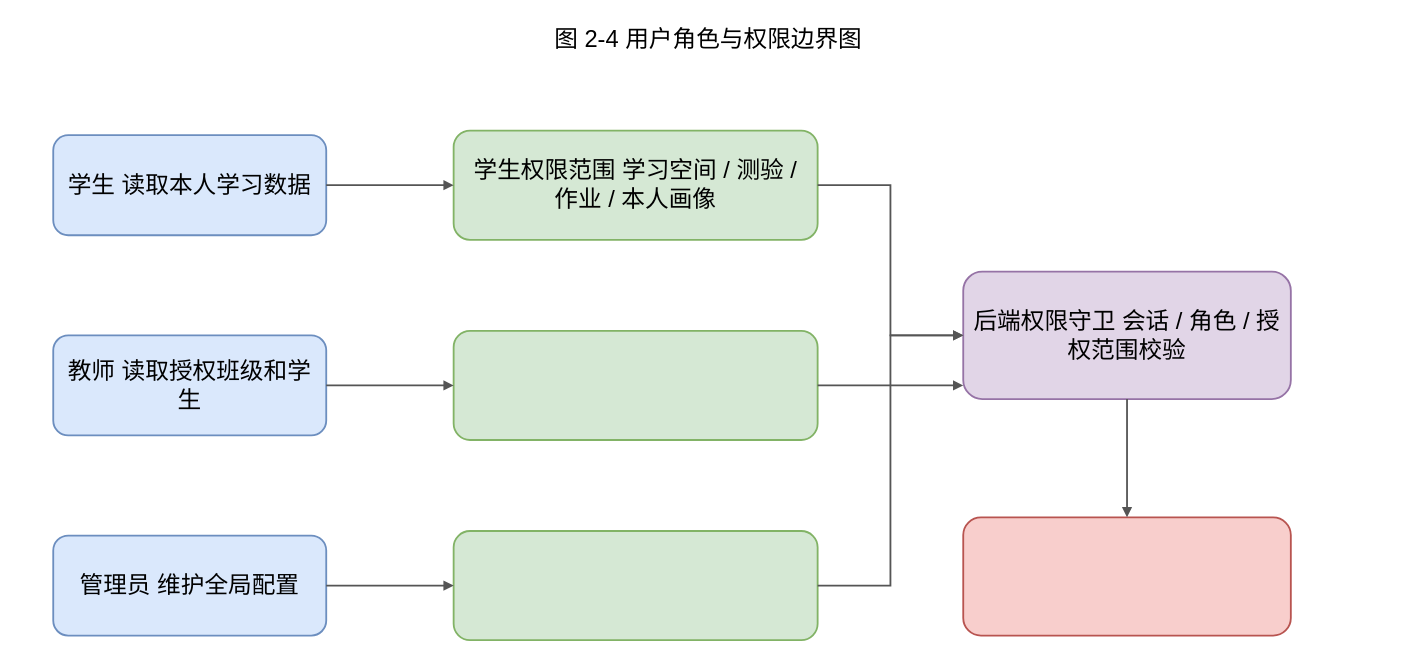
The diagram is 1416 pixels wide and 656 high, and some of its shapes have lost their labels. The shapes that lost their labels are listed below. From the top down, each one's centre as x and y in pixels, then its label:
At pixel 635 384: "教师权限范围 课程建设 / 班级看板 / 教师画像 / 干预".
At pixel 635 585: "管理员权限范围 用户 / 课程配置 / 岗位方向 / 系统维护".
At pixel 1126 576: "数据访问边界 本人数据 / 授权学生 / 全局配置".
